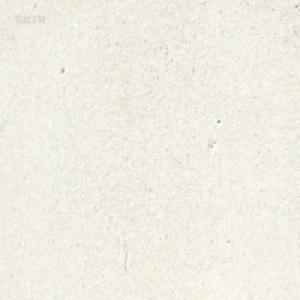Wrench: (123, 0, 130, 4)
